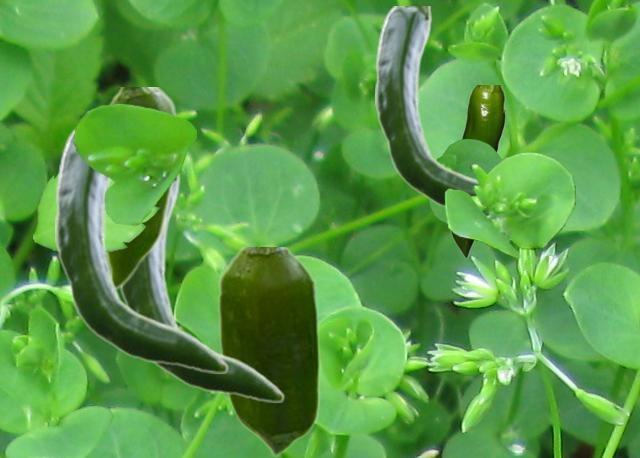green_chili: (55, 127, 228, 372), (119, 171, 284, 401), (217, 247, 319, 455), (375, 6, 476, 209), (105, 87, 177, 290), (450, 85, 504, 257)
